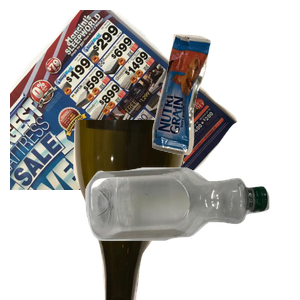glass: (71, 120, 254, 300)
paper: (10, 10, 240, 190)
plastic: (83, 165, 300, 300)
trash: (149, 31, 300, 179)
